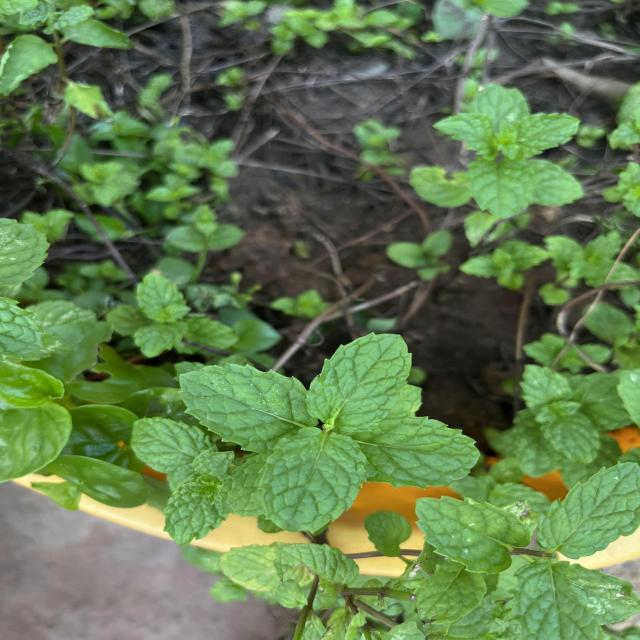Mentha spicata: (176, 361, 307, 455), (257, 426, 368, 536), (304, 331, 414, 433), (535, 460, 640, 560), (356, 413, 481, 491), (414, 494, 531, 576)
